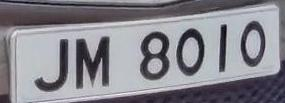0: (168, 22, 212, 81), (236, 14, 270, 73)
1: (212, 16, 237, 80)
8: (134, 25, 175, 85)
J: (31, 35, 70, 95)
M: (72, 33, 116, 95)
